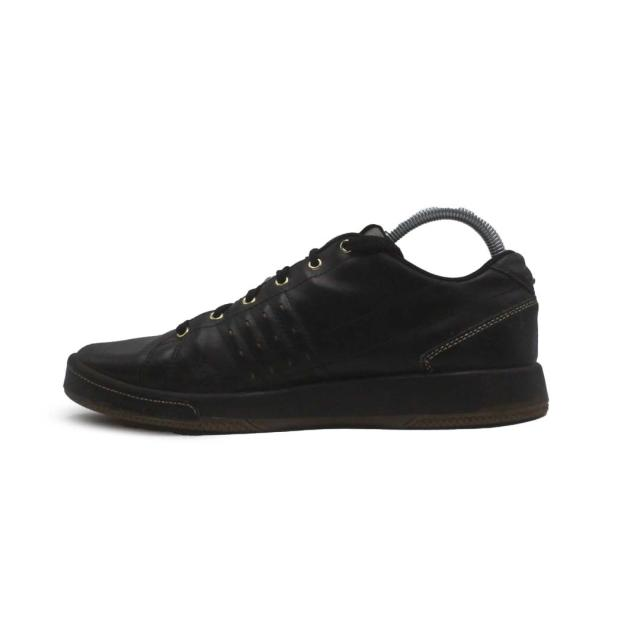heel: (484, 255, 541, 376)
midsole: (60, 357, 550, 428)
uppersole: (72, 224, 484, 391)
